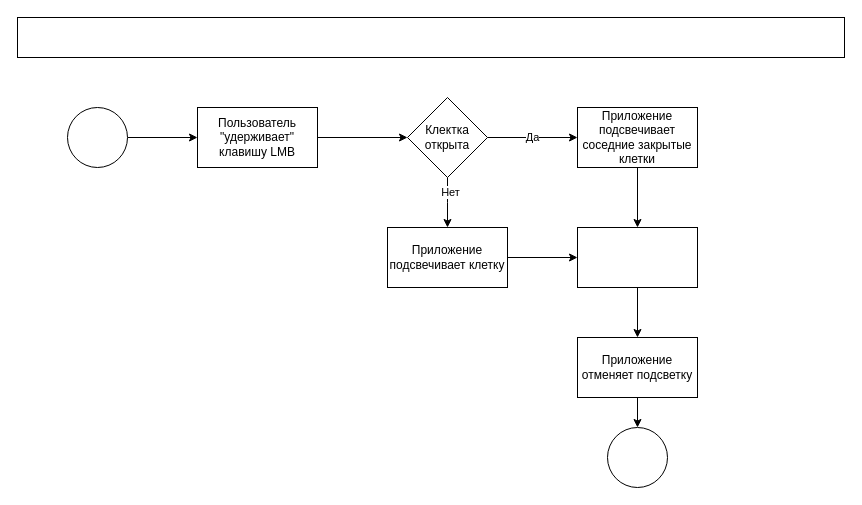
This 862x505 diagram has some shape labels left out. The centre of each missing label's shape, as x and y in pixels:
"Пользователь отжимает клетку или переводит курсор на другую" goes at (x=637, y=257).
"Функциональная возможность 9" goes at (x=430, y=37).
